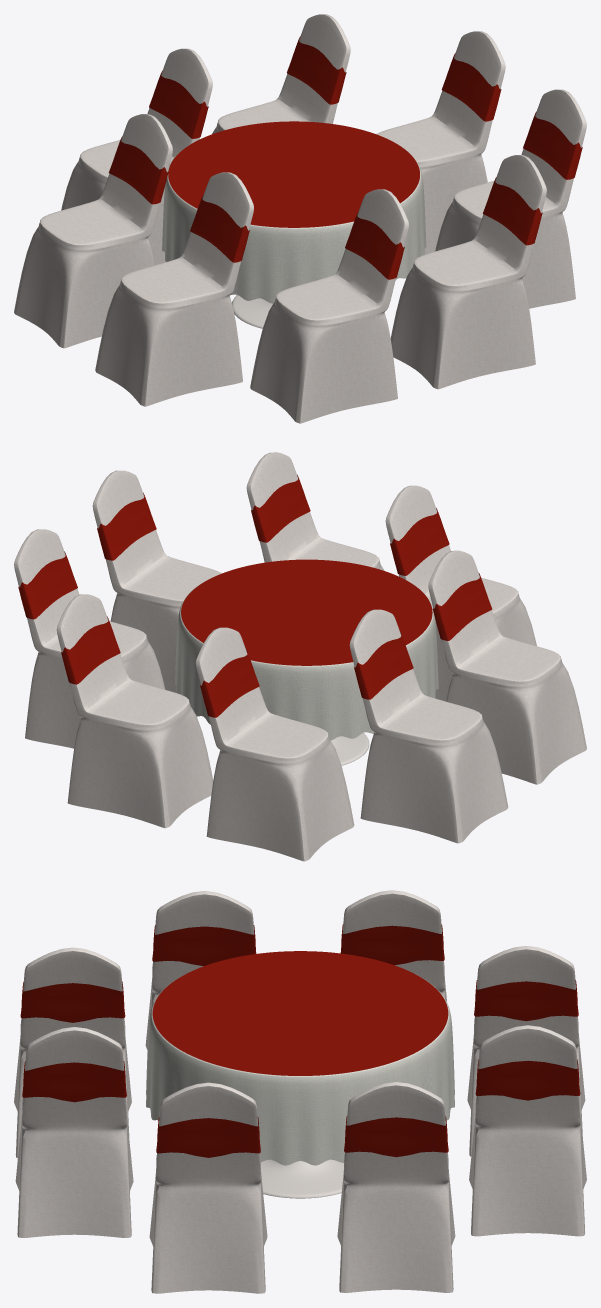
The model's file is table_with_8_chair.glb.
The picture shows the model from 3 angles, top to bottom: view 1: azimuth 30°, elevation 25°; view 2: azimuth 150°, elevation 25°; view 3: azimuth 270°, elevation 25°; orthographic projection. The views are drawn at different scales.
Visible parts, largest first — view 1: Plane, Circle.025, American Tulip Round Table; view 2: Plane, Circle.025, American Tulip Round Table; view 3: Plane, Circle.025, American Tulip Round Table.
Part boxes in pixels (x1=…): Plane: x1=14, y1=14, x2=586, y2=423; Circle.025: x1=162, y1=121, x2=426, y2=303; American Tulip Round Table: x1=232, y1=295, x2=272, y2=328; Plane: x1=14, y1=452, x2=586, y2=861; Circle.025: x1=175, y1=559, x2=438, y2=740; American Tulip Round Table: x1=331, y1=732, x2=369, y2=765; Plane: x1=14, y1=890, x2=586, y2=1293; Circle.025: x1=146, y1=951, x2=454, y2=1165; American Tulip Round Table: x1=261, y1=1159, x2=343, y2=1198.
Size of the model in its own units: 2.66 by 1.04 by 2.47.
Materials: 4 (2 with a texture image).
